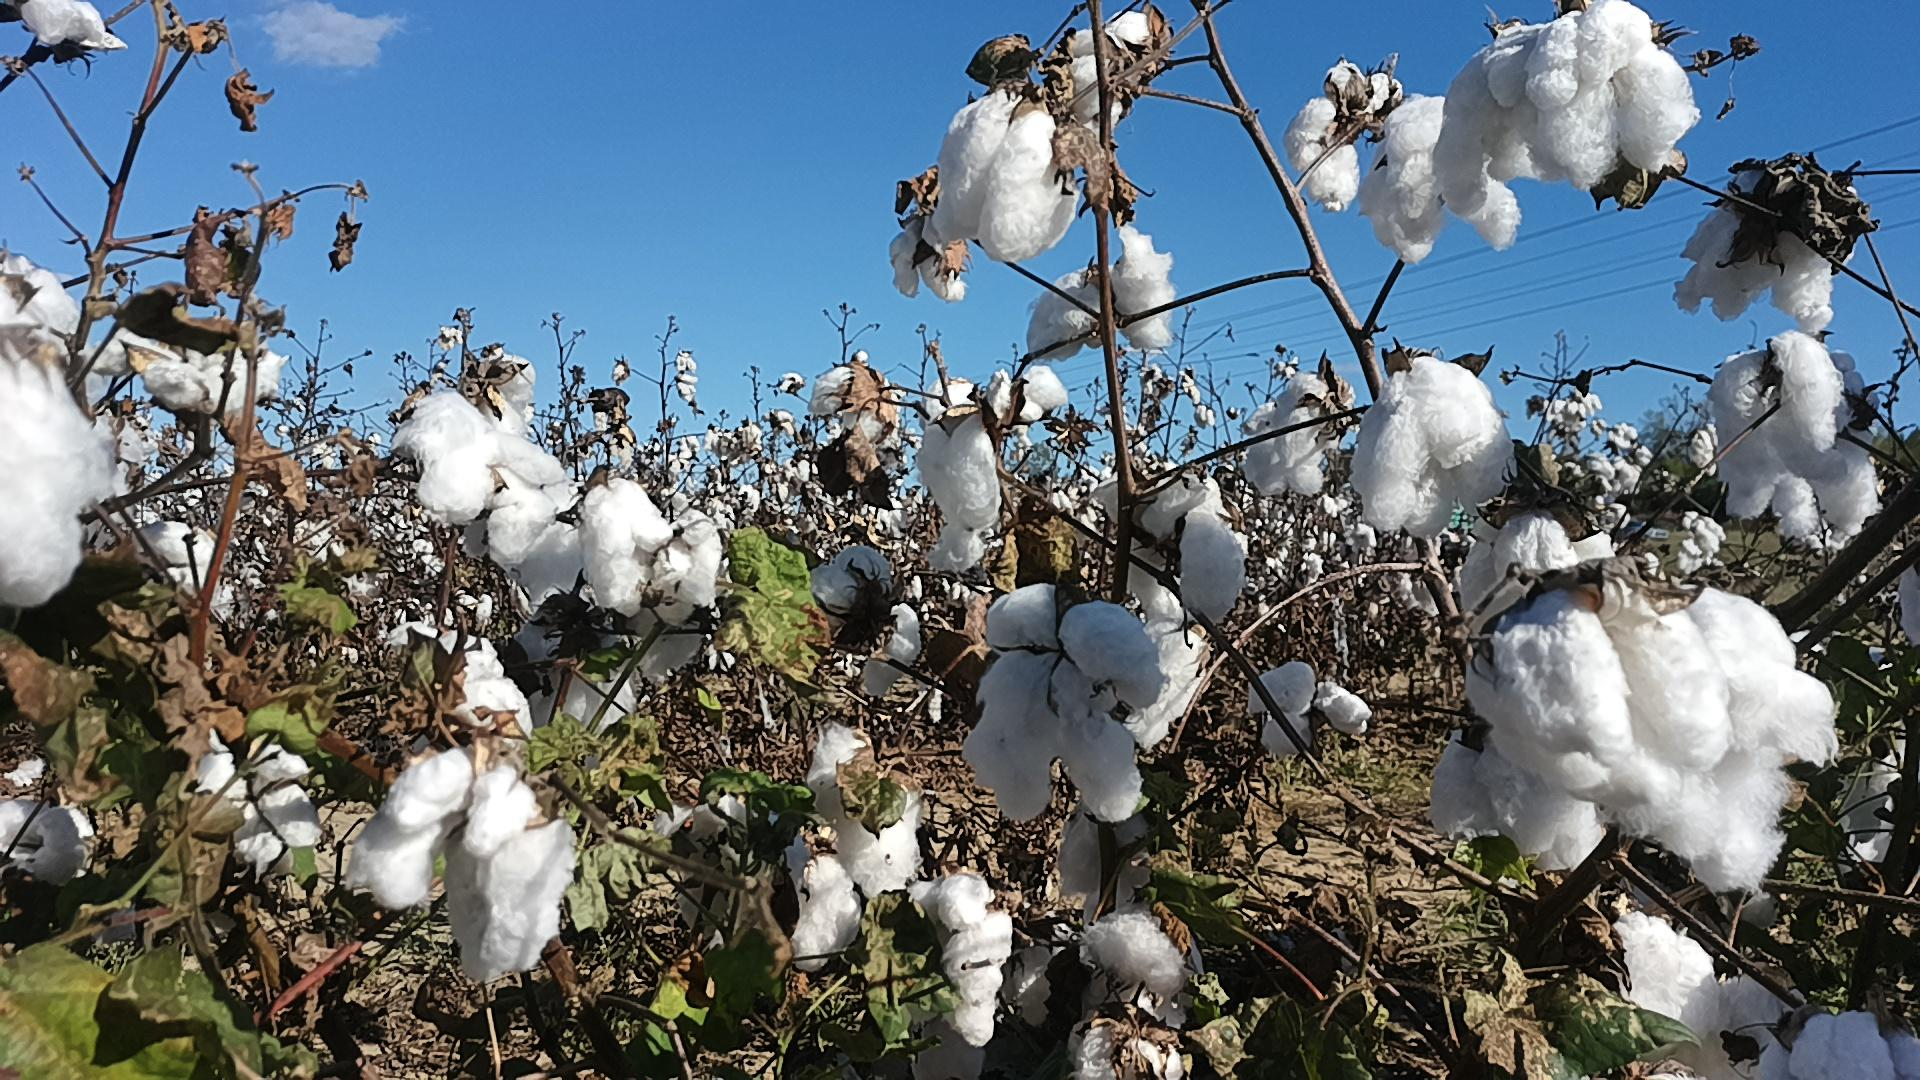cotton_ready: (1472, 588, 1838, 885), (1429, 0, 1702, 223), (342, 750, 578, 981), (968, 585, 1168, 823), (1348, 356, 1518, 539), (1366, 94, 1523, 269), (0, 357, 108, 605), (931, 88, 1077, 260), (1672, 173, 1830, 331), (1709, 335, 1878, 479), (390, 390, 571, 524), (1431, 736, 1604, 873), (186, 731, 328, 882), (1457, 516, 1618, 637), (1619, 913, 1735, 1080), (910, 865, 1015, 1044), (382, 622, 534, 741), (1288, 66, 1408, 207), (1127, 476, 1244, 621), (647, 790, 750, 939), (1242, 658, 1375, 761), (578, 476, 673, 617), (0, 756, 100, 889), (1073, 913, 1188, 1027), (1743, 1006, 1920, 1080), (109, 331, 287, 404), (1122, 605, 1208, 753), (1726, 463, 1891, 535), (1246, 377, 1340, 496), (484, 477, 580, 591), (836, 781, 926, 897), (789, 849, 870, 976), (1842, 736, 1920, 865), (1068, 13, 1153, 129), (1048, 814, 1149, 909), (918, 415, 1000, 529), (140, 524, 237, 617), (535, 659, 646, 741), (810, 541, 898, 633), (0, 256, 80, 353), (647, 505, 720, 609), (1076, 1017, 1188, 1080), (1116, 225, 1171, 353), (1026, 268, 1101, 357), (893, 222, 968, 301), (20, 0, 128, 53), (810, 723, 876, 808), (864, 608, 928, 692), (1002, 940, 1055, 1038), (632, 616, 705, 680), (994, 368, 1068, 417), (1898, 566, 1920, 644)
